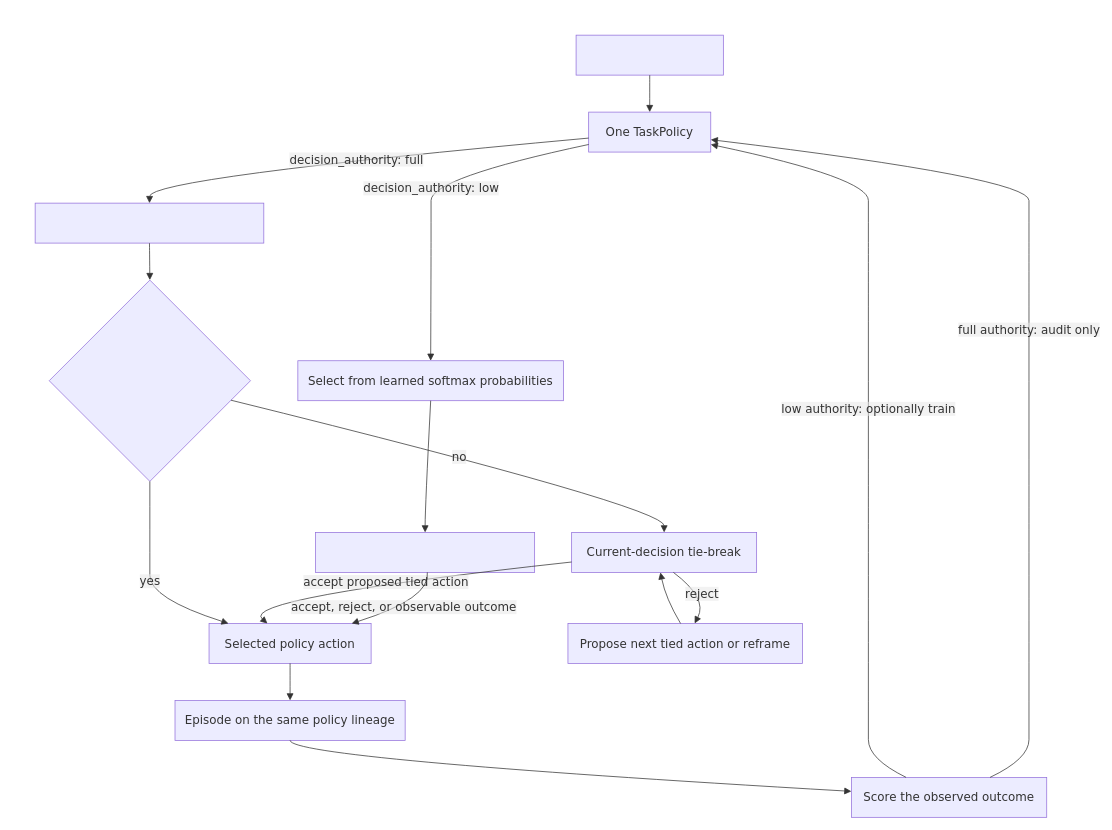
The diagram is 1112 pixels wide and 830 high, and some of its shapes have lost their labels. Each missing label, with the centre of its shape:
Agent task decision: the point at 649,54
Learning/authorization feedback: the point at 425,552
Resolve the current DecisionFrame: the point at 149,222
Unique robust winner?: the point at 149,380
